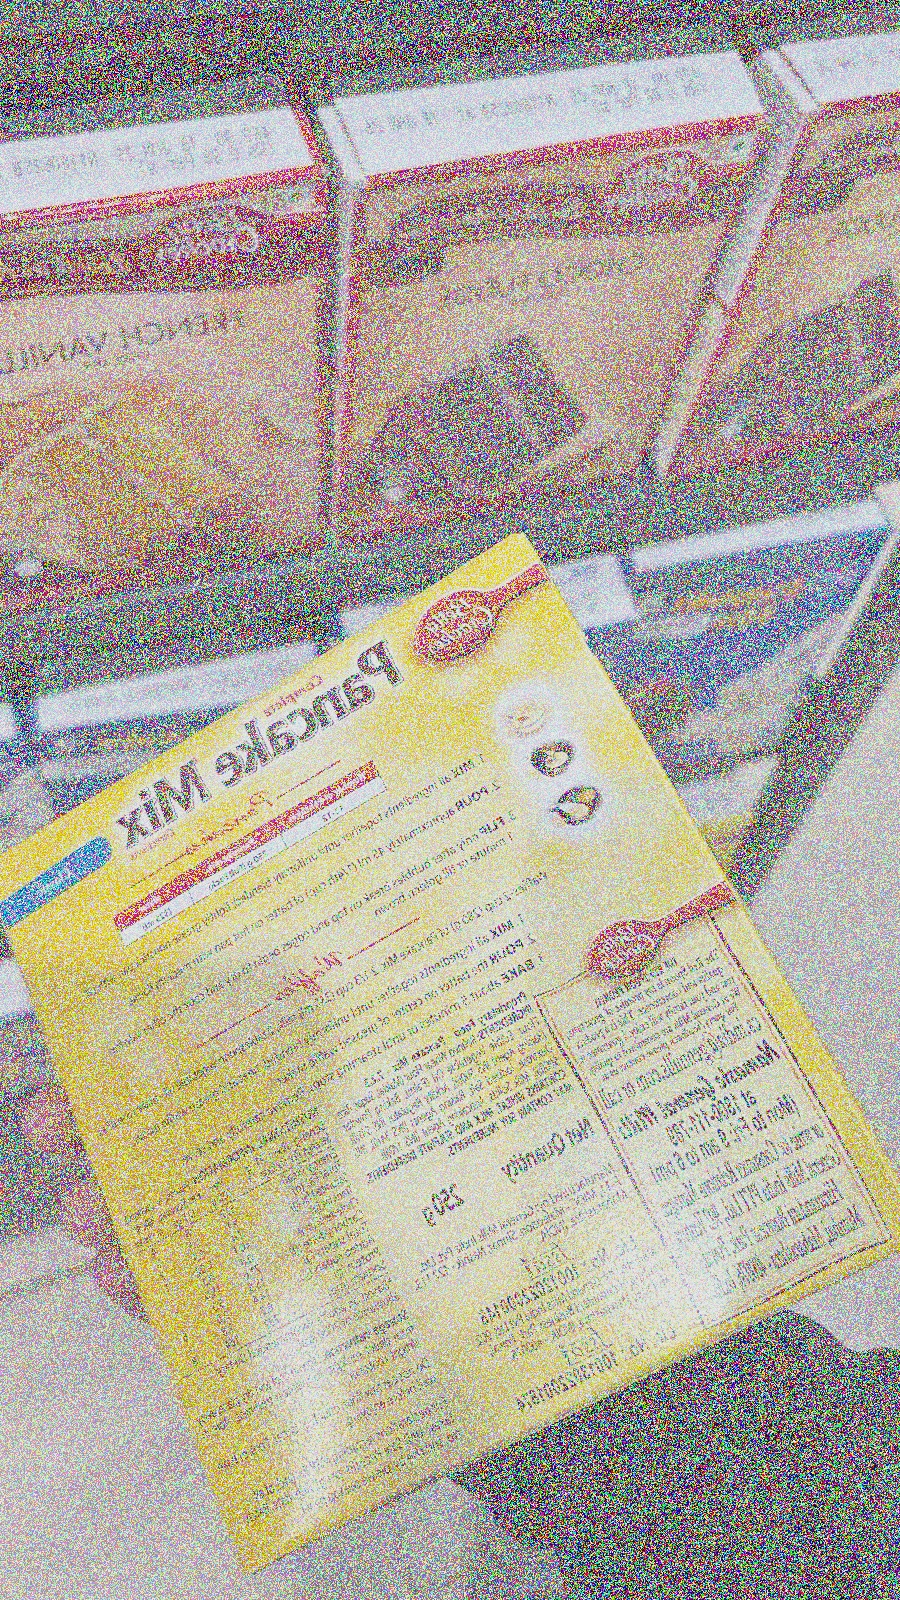Betty Crocker Pancake Mix: (0, 535, 889, 1600)
